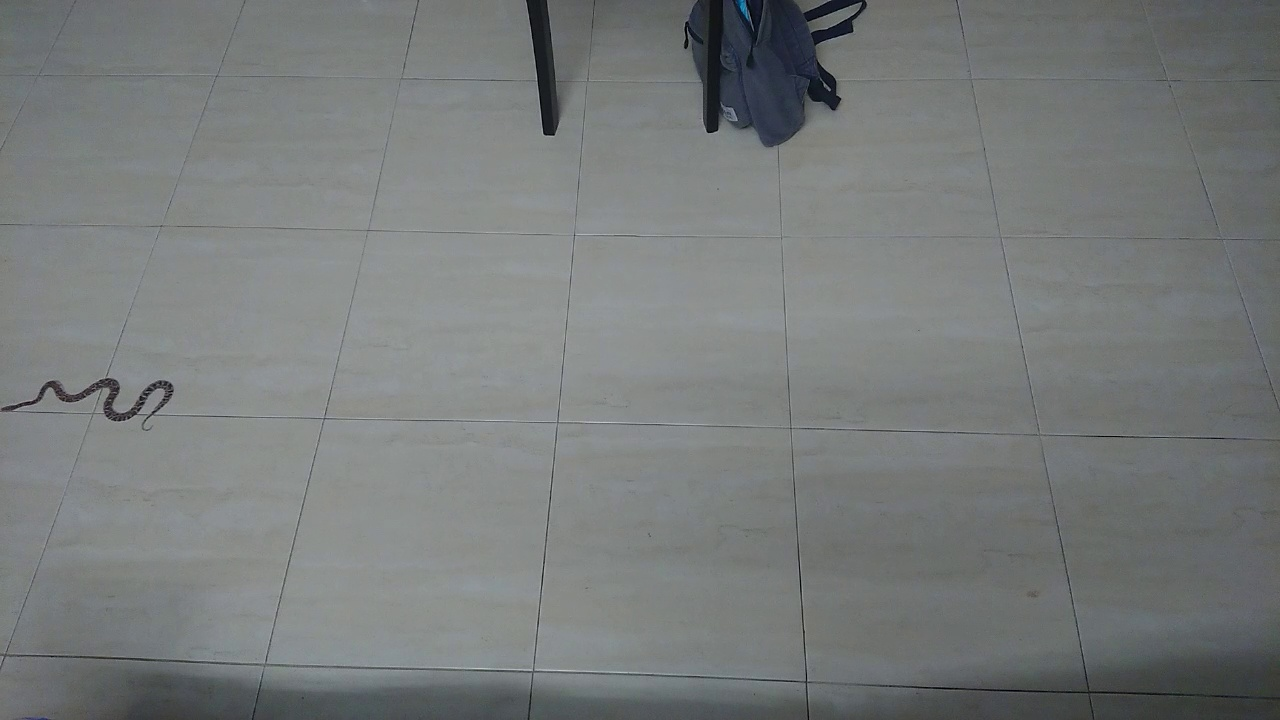snake: (1, 361, 195, 439)
